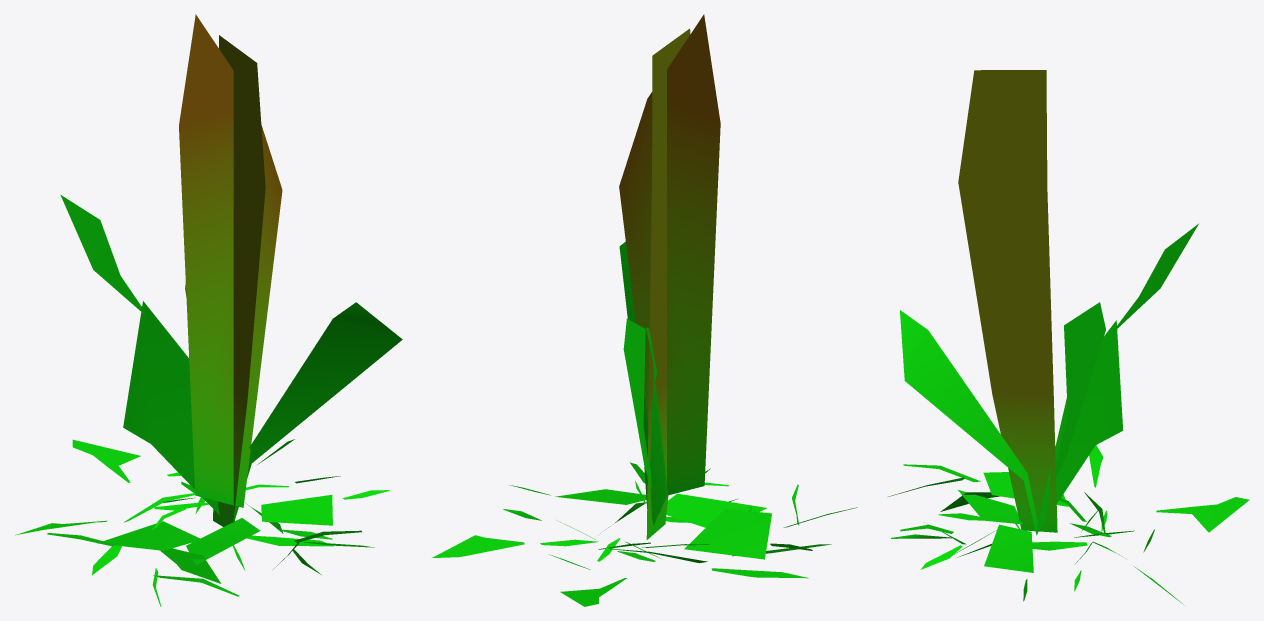
Rendered from Dead Shrubs_LOD2_Var9_vdknafgha.fbx.
3 views of the same model, side by side, from view 1: azimuth 30°, elevation 25°; view 2: azimuth 150°, elevation 25°; view 3: azimuth 270°, elevation 25° (orthographic). The views are drawn at different scales.
Visible parts, largest first — view 1: _deun_Var9_LOD2; view 2: _deun_Var9_LOD2; view 3: _deun_Var9_LOD2.
Boxes of the visible parts, x1,y1,x2,y2 form: _deun_Var9_LOD2: [15, 14, 402, 606]; _deun_Var9_LOD2: [432, 14, 857, 606]; _deun_Var9_LOD2: [888, 70, 1249, 605].
Size of the model in its own units: 19.72 by 29.6 by 19.24.
